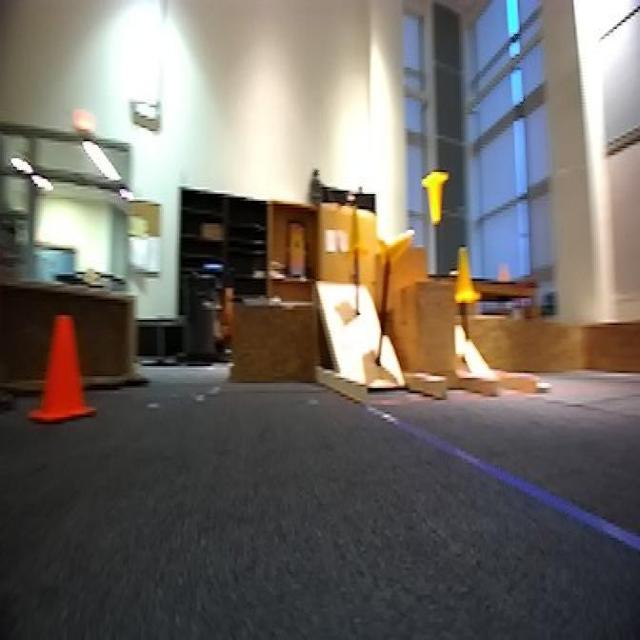frc_cone: (379, 225, 415, 272), (420, 169, 448, 228), (454, 247, 478, 303), (343, 204, 368, 252)
